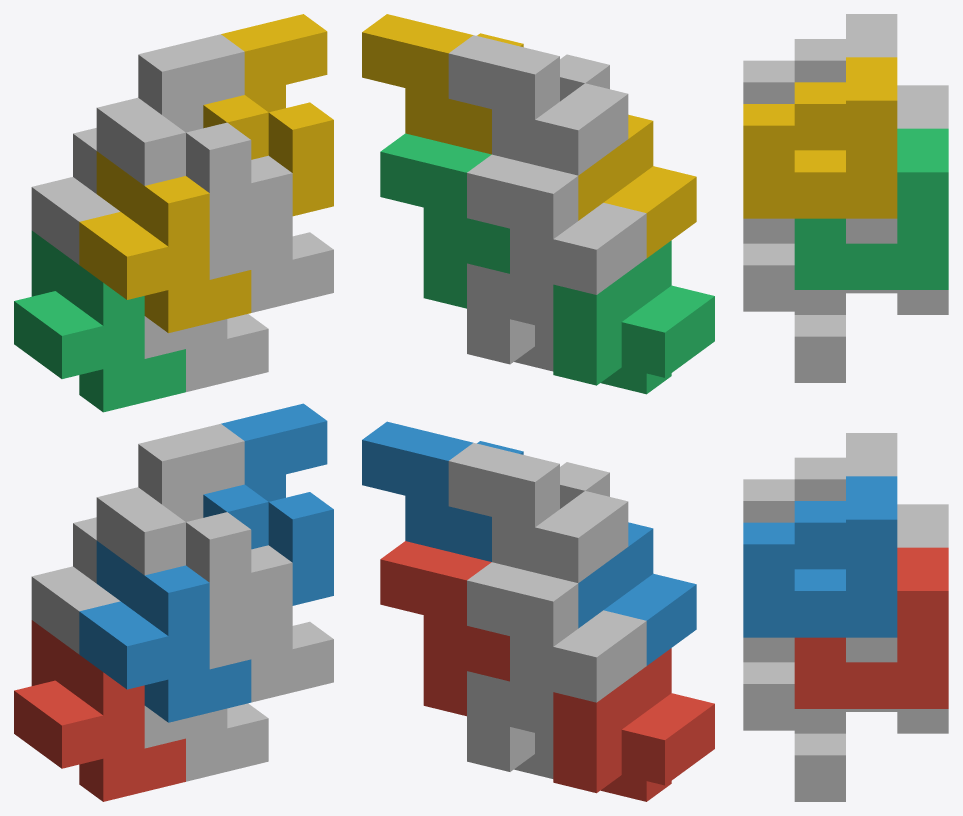
The model's file is tiling.obj.
3 views of the same model, side by side, from view 1: azimuth 30°, elevation 25°; view 2: azimuth 150°, elevation 25°; view 3: azimuth 270°, elevation 25° (orthographic). The views are drawn at different scales.
Parts seen in each view (by area): view 1: copy_2_domain_4, copy_2_domain_2, copy_1_domain_2, copy_1_domain_4, copy_1_domain_1, copy_1_domain_3, copy_2_domain_8, copy_2_domain_6, copy_1_domain_6, copy_1_domain_8, copy_1_domain_5, copy_1_domain_7 (+2 smaller); view 2: copy_2_domain_1, copy_2_domain_3, copy_2_domain_2, copy_2_domain_4, copy_1_domain_1, copy_1_domain_3, copy_2_domain_5, copy_2_domain_7, copy_2_domain_6, copy_2_domain_8, copy_1_domain_2, copy_1_domain_4 (+2 smaller); view 3: copy_2_domain_6, copy_2_domain_8, copy_2_domain_5, copy_2_domain_7, copy_2_domain_2, copy_2_domain_4, copy_1_domain_7, copy_1_domain_5, copy_1_domain_8, copy_1_domain_6, copy_2_domain_1, copy_2_domain_3.
Boxes of the visible parts, x1=… form: copy_2_domain_4: x1=96, y1=34, x2=251, y2=236; copy_2_domain_2: x1=96, y1=423, x2=251, y2=625; copy_1_domain_2: x1=79, y1=541, x2=251, y2=722; copy_1_domain_4: x1=79, y1=151, x2=251, y2=333; copy_1_domain_1: x1=14, y1=620, x2=185, y2=801; copy_1_domain_3: x1=14, y1=230, x2=185, y2=412; copy_2_domain_8: x1=203, y1=14, x2=333, y2=216; copy_2_domain_6: x1=203, y1=403, x2=333, y2=605; copy_1_domain_6: x1=209, y1=545, x2=333, y2=702; copy_1_domain_8: x1=209, y1=155, x2=333, y2=312; copy_1_domain_5: x1=144, y1=703, x2=268, y2=781; copy_1_domain_7: x1=144, y1=314, x2=268, y2=391; copy_2_domain_1: x1=467, y1=562, x2=646, y2=737; copy_2_domain_3: x1=467, y1=154, x2=646, y2=329; copy_2_domain_2: x1=448, y1=442, x2=628, y2=583; copy_2_domain_4: x1=448, y1=35, x2=628, y2=175; copy_1_domain_1: x1=553, y1=648, x2=714, y2=801; copy_1_domain_3: x1=553, y1=240, x2=714, y2=394; copy_2_domain_5: x1=380, y1=541, x2=509, y2=716; copy_2_domain_7: x1=380, y1=133, x2=509, y2=308; copy_2_domain_6: x1=362, y1=421, x2=523, y2=561; copy_2_domain_8: x1=362, y1=14, x2=523, y2=154; copy_1_domain_2: x1=578, y1=522, x2=696, y2=665; copy_1_domain_4: x1=578, y1=114, x2=696, y2=257; copy_2_domain_6: x1=743, y1=476, x2=897, y2=637; copy_2_domain_8: x1=743, y1=57, x2=897, y2=218; copy_2_domain_5: x1=794, y1=547, x2=948, y2=708; copy_2_domain_7: x1=794, y1=128, x2=948, y2=289; copy_2_domain_2: x1=743, y1=433, x2=897, y2=522; copy_2_domain_4: x1=743, y1=14, x2=897, y2=103; copy_1_domain_7: x1=794, y1=290, x2=948, y2=382; copy_1_domain_5: x1=794, y1=709, x2=948, y2=801; copy_1_domain_8: x1=743, y1=218, x2=897, y2=311; copy_1_domain_6: x1=743, y1=637, x2=897, y2=730; copy_2_domain_1: x1=897, y1=504, x2=948, y2=547; copy_2_domain_3: x1=897, y1=85, x2=948, y2=128.
Bounding box in the file's own units: 7 × 16 × 4.
